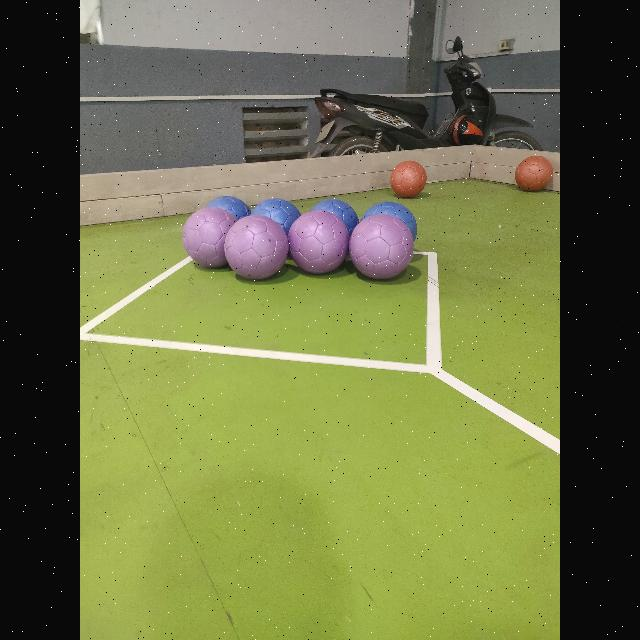B: (363, 202, 417, 238), (251, 198, 301, 234), (312, 199, 358, 235), (208, 196, 250, 220)
P: (348, 215, 414, 279), (225, 216, 289, 278), (288, 210, 349, 274), (182, 205, 240, 269)
R: (390, 160, 426, 198), (516, 156, 552, 190)
